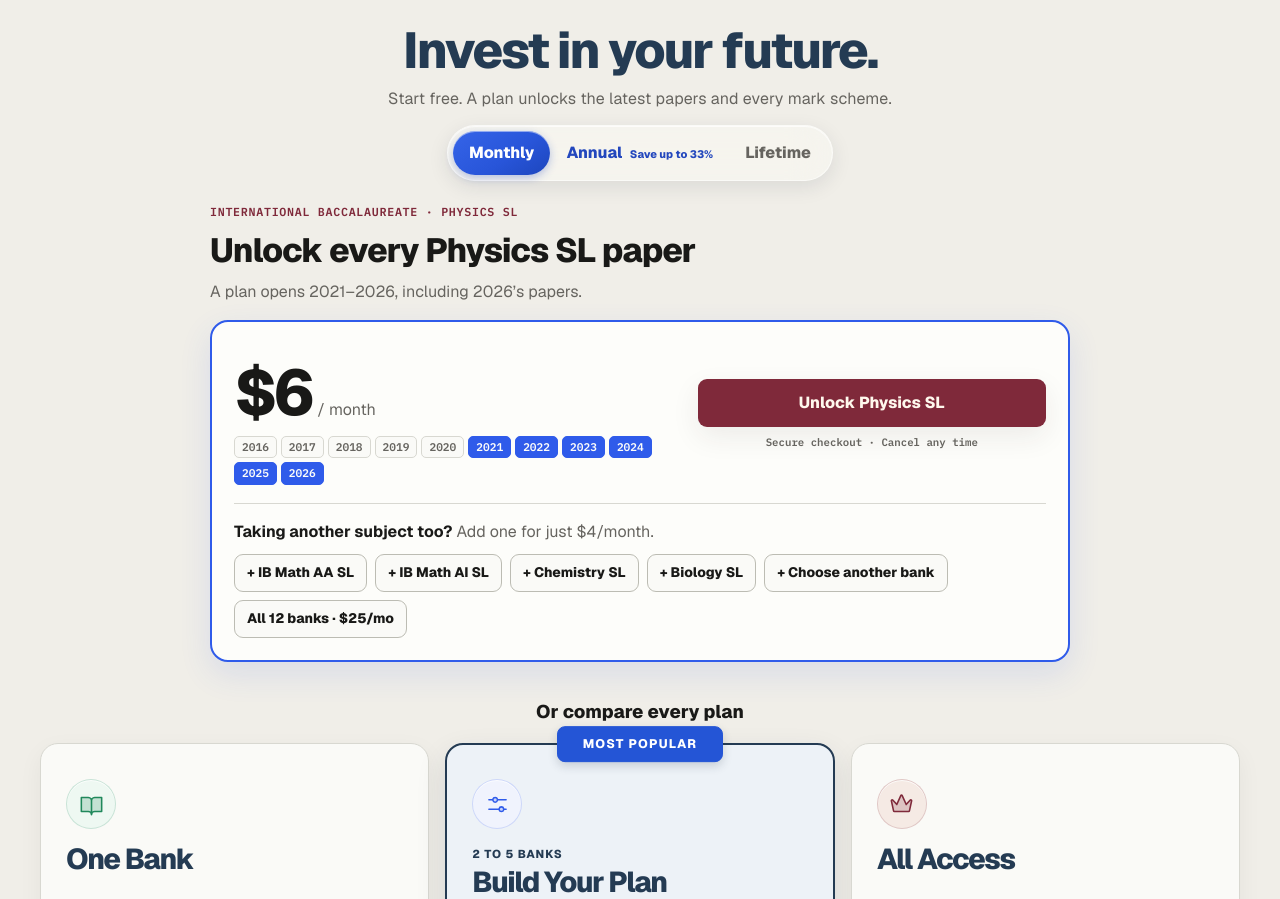
Test: pricing for someone who came from a bank's upgrade prompt › lets them choose any other bank when the suggestions don't fit
Click the link "+ Choose another bank".
click(856, 573)  # box [764,554,948,592]
(page scrolled)
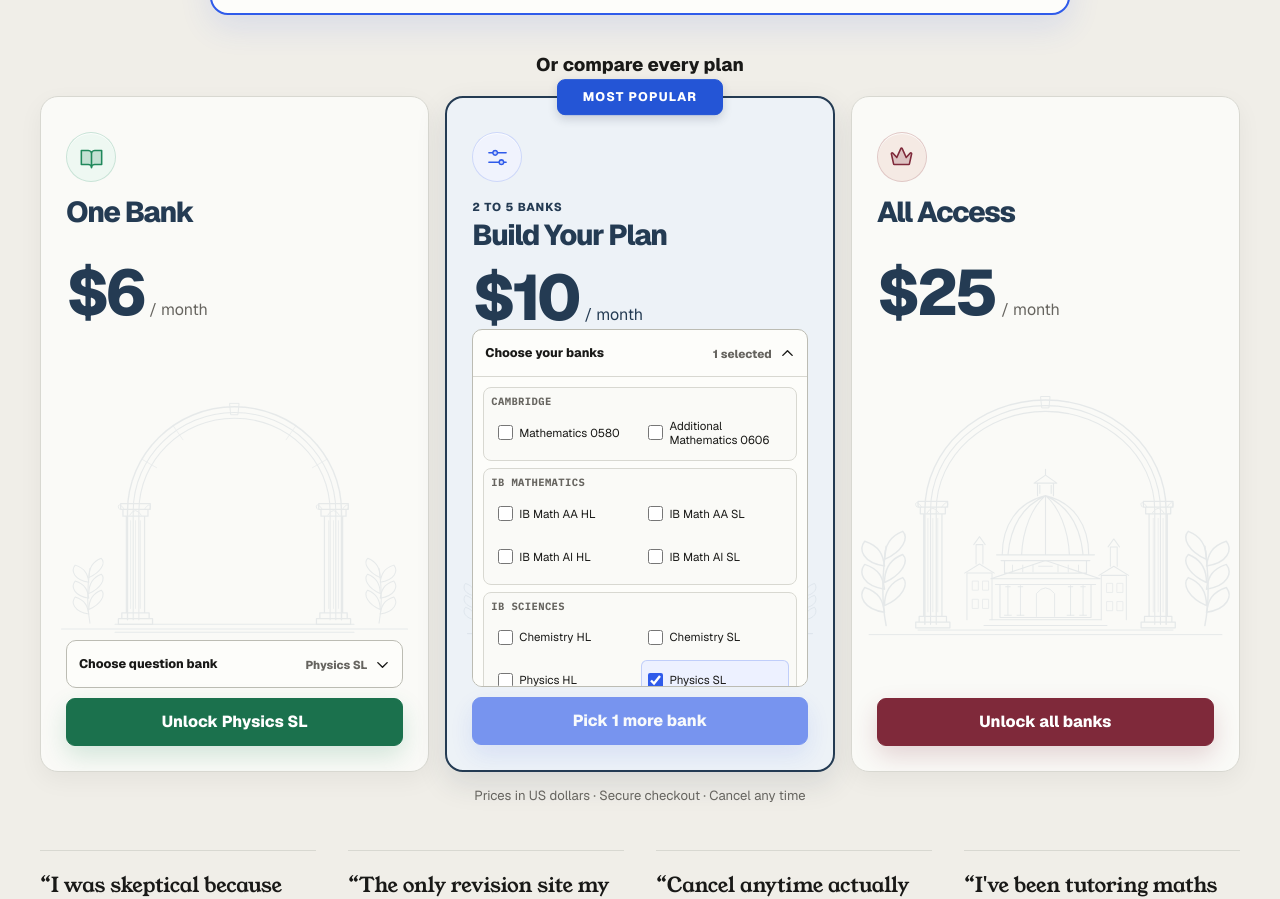
Result: the checkbox labelled "Physics SL" is checked at [648,673,664,686]
Result: the checkbox labelled "Chemistry HL" is not checked at [498,630,513,645]
